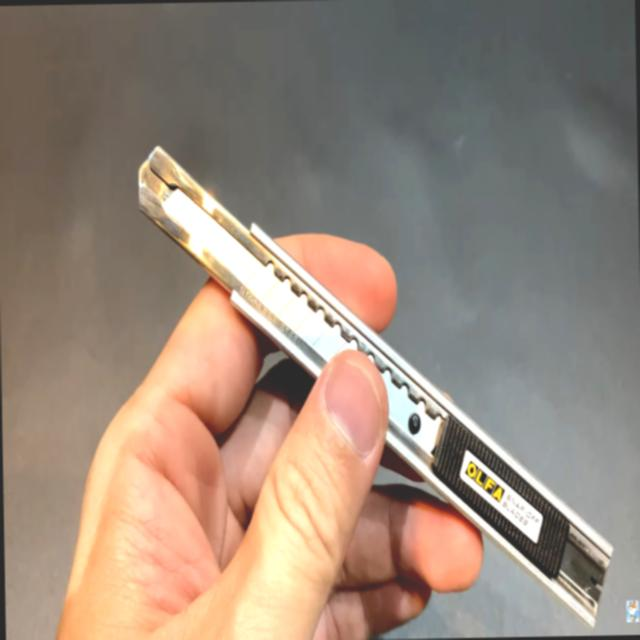cutter: (103, 76, 628, 640)
